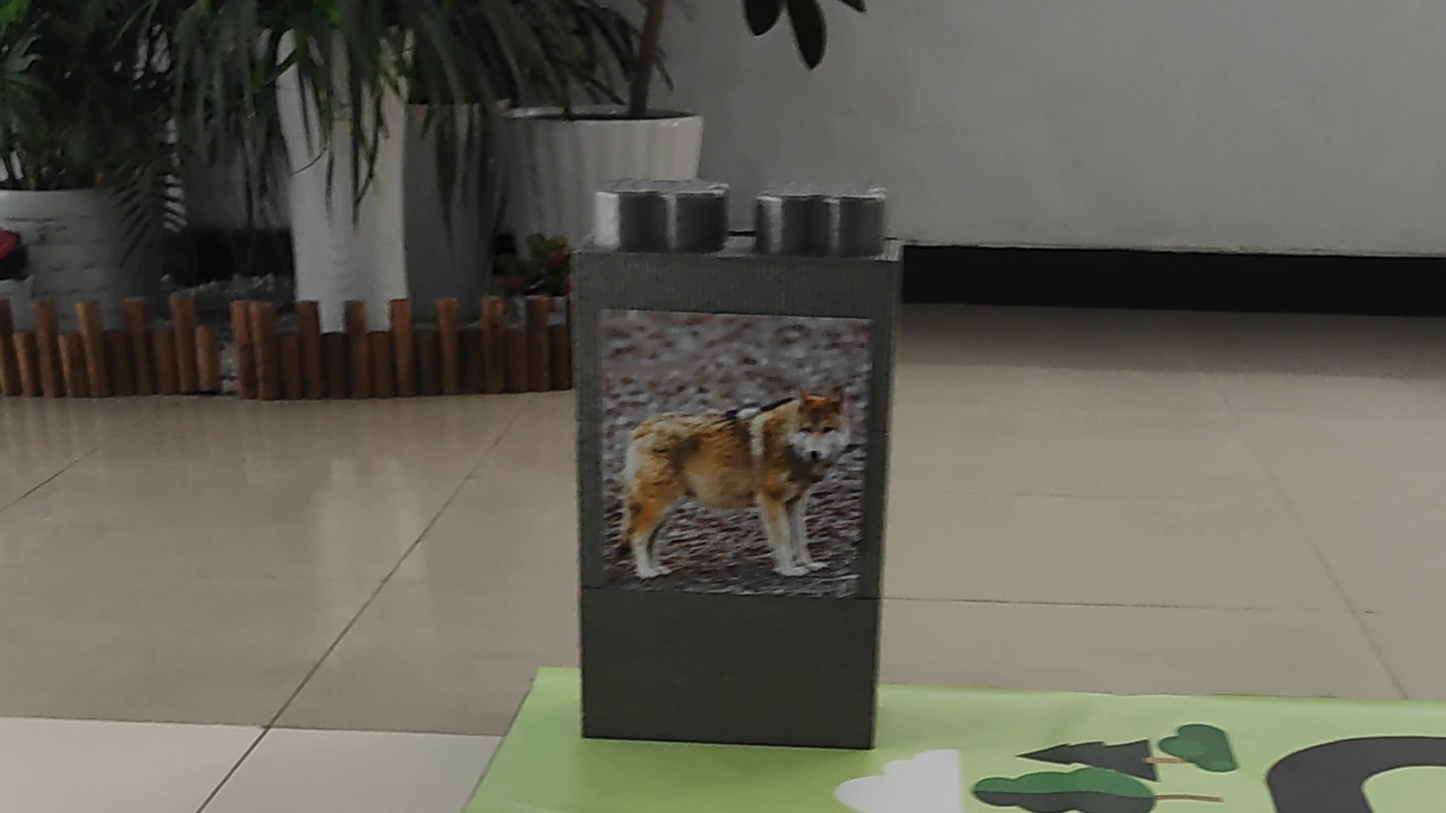wolf: (597, 353, 857, 589)
